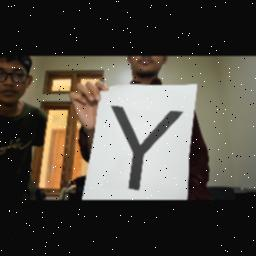y: (108, 102, 188, 194)
